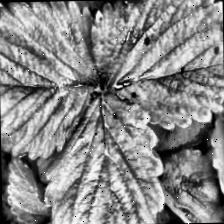Leaf Spot: (87, 0, 224, 131), (35, 88, 166, 224), (0, 0, 102, 161)
